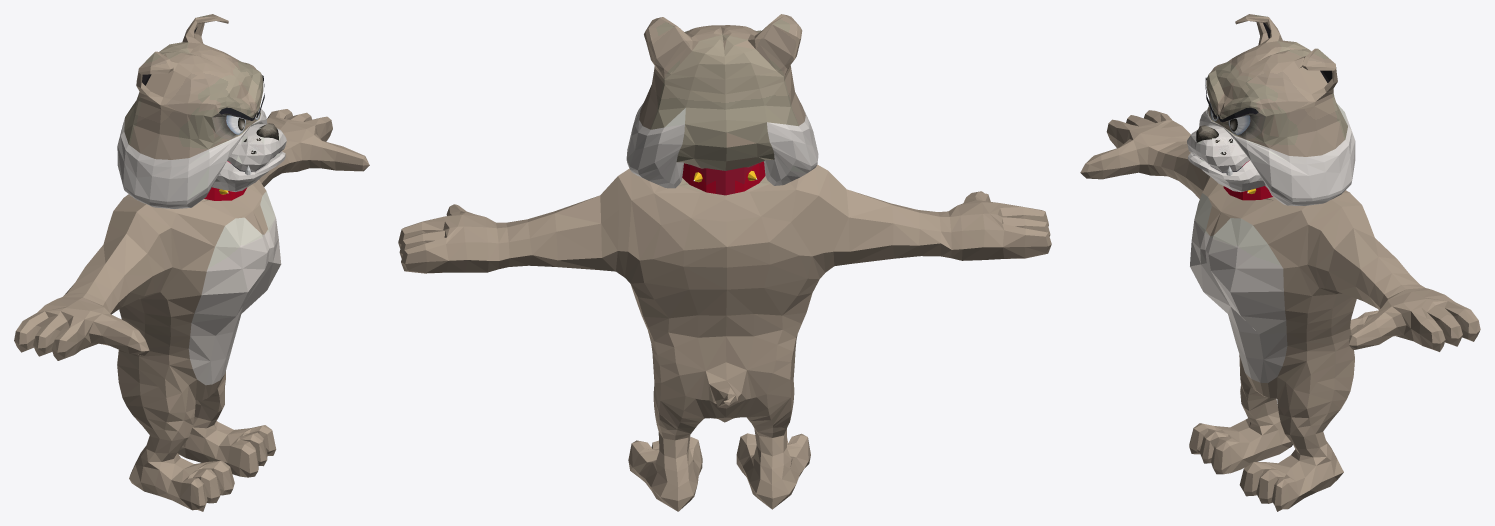
Rendered from gou.glb.
The picture shows the model from 3 angles, left to right: view 1: azimuth 30°, elevation 25°; view 2: azimuth 150°, elevation 25°; view 3: azimuth 270°, elevation 25°; orthographic projection. The views are drawn at different scales.
Visible parts, largest first — view 1: C2LEKHQRWZRUA1FFO04D87I56; view 2: C2LEKHQRWZRUA1FFO04D87I56; view 3: C2LEKHQRWZRUA1FFO04D87I56.
Boxes of the visible parts, <box> form: C2LEKHQRWZRUA1FFO04D87I56: <box>14,14,369,511</box>; C2LEKHQRWZRUA1FFO04D87I56: <box>398,14,1051,511</box>; C2LEKHQRWZRUA1FFO04D87I56: <box>1080,14,1480,511</box>.
Size of the model in its own units: 2.2 by 2.01 by 1.67.
1 material, 1 textured.
